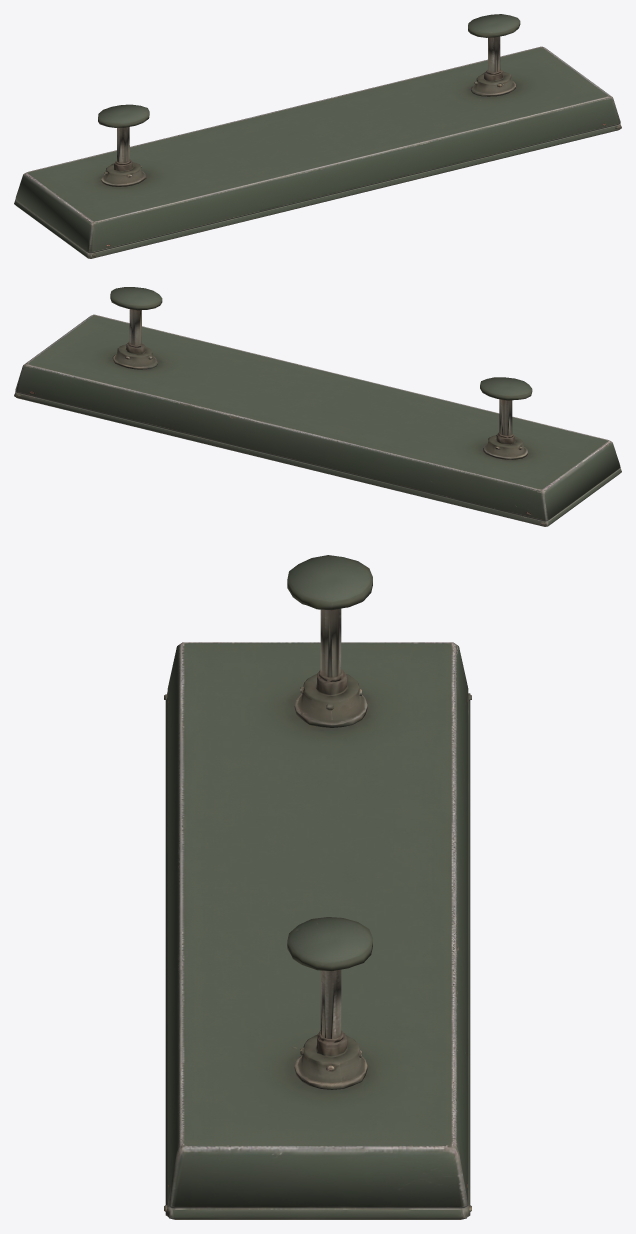
The model's file is lighting-strip-double.glb.
3 renders of one model, top to bottom at view 1: azimuth 30°, elevation 25°; view 2: azimuth 150°, elevation 25°; view 3: azimuth 270°, elevation 25°, orthographic. The views are drawn at different scales.
Parts seen in each view (by area): view 1: tripo_node_8d598d51-e2ef-4ab3-9929-63825bbdfae5; view 2: tripo_node_8d598d51-e2ef-4ab3-9929-63825bbdfae5; view 3: tripo_node_8d598d51-e2ef-4ab3-9929-63825bbdfae5.
Boxes of the visible parts, <box> form: tripo_node_8d598d51-e2ef-4ab3-9929-63825bbdfae5: <box>14,14,621,258</box>; tripo_node_8d598d51-e2ef-4ab3-9929-63825bbdfae5: <box>14,287,621,526</box>; tripo_node_8d598d51-e2ef-4ab3-9929-63825bbdfae5: <box>164,555,471,1219</box>.
Bounding box in the file's own units: 1 × 0.18 × 0.25.
Materials: 1 (1 with a texture image).
